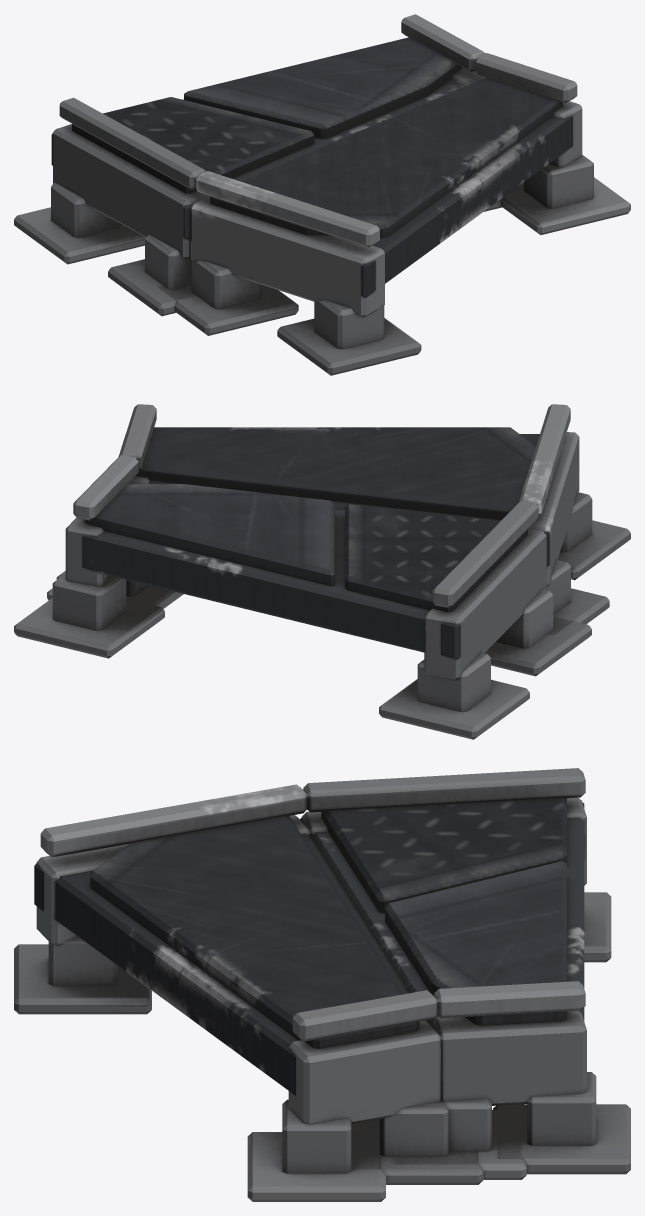
The model's file is nodexeus-set-walk-turn-30.glb.
The picture shows the model from 3 angles, top to bottom: view 1: azimuth 30°, elevation 25°; view 2: azimuth 150°, elevation 25°; view 3: azimuth 270°, elevation 25°; orthographic projection. The views are drawn at different scales.
Parts seen in each view (by area): view 1: set-walk-turn-30; view 2: set-walk-turn-30; view 3: set-walk-turn-30.
Boxes of the visible parts, x1,y1,x2,y2 form: set-walk-turn-30: (14, 14, 630, 375); set-walk-turn-30: (14, 404, 630, 739); set-walk-turn-30: (14, 768, 630, 1201).
Size of the model in its own units: 2.04 by 0.515 by 1.79.
1 material, 1 textured.
